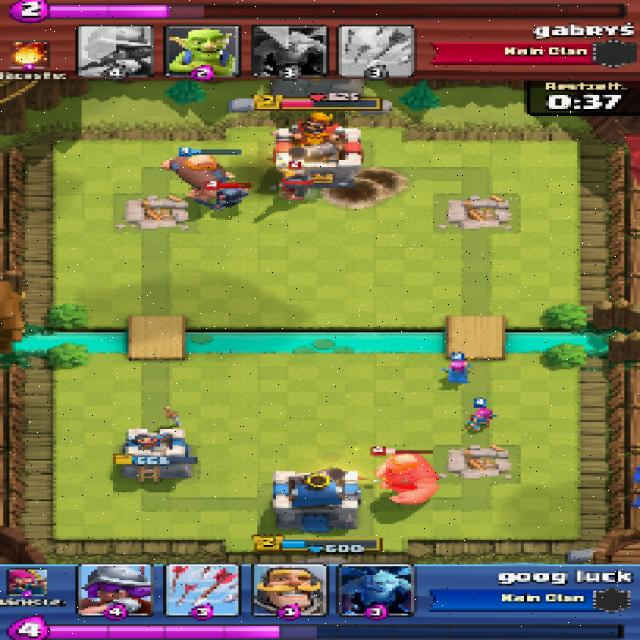Enemy-Giant: (371, 451, 441, 505)
Enemy-Knight: (269, 164, 308, 200)
Enemy-MiniPEKKA: (201, 187, 252, 210)
Player-Archer: (460, 409, 500, 431), (442, 358, 471, 382)
Player-Giant: (162, 152, 232, 198)
